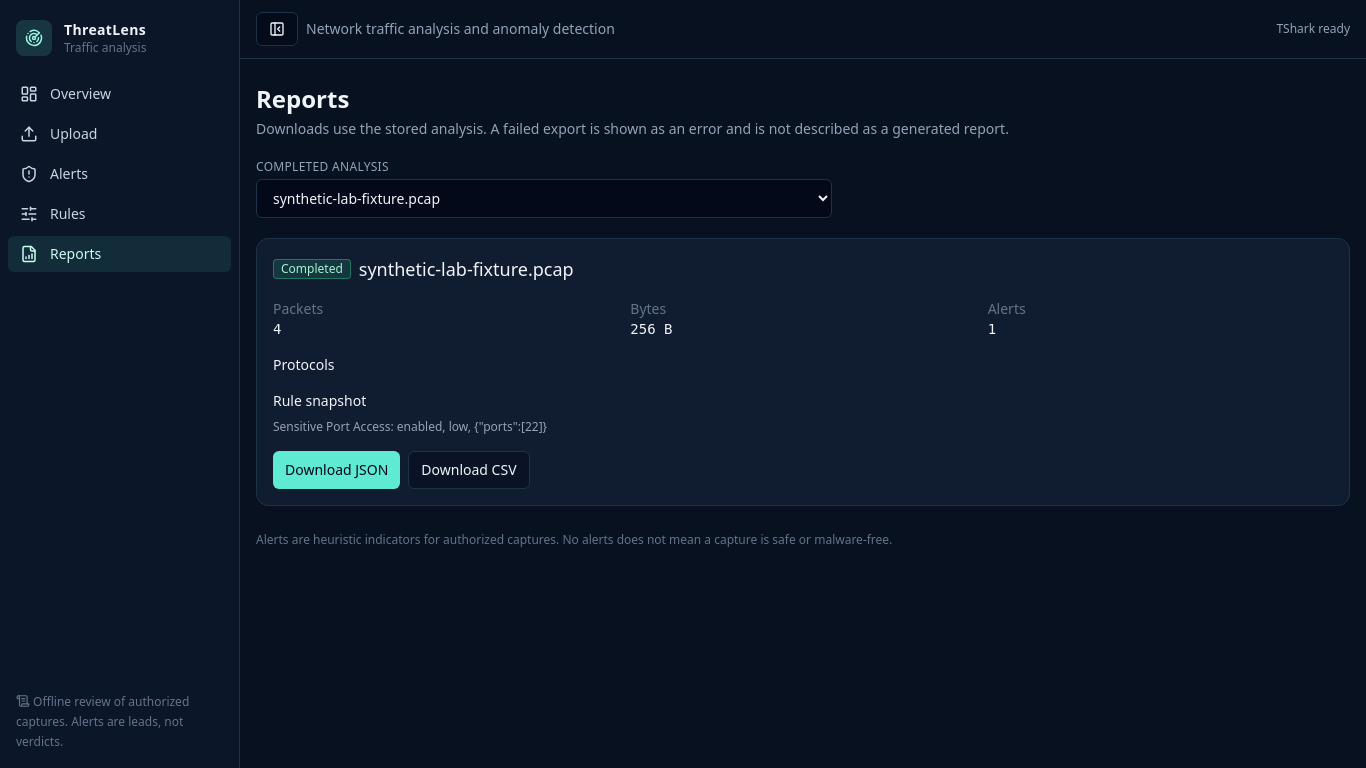
Scenario: reports › downloads both formats using the API filename and reports a failed export
This screenshot has width=1366, height=768.
Click the button "Download JSON" at (337, 470), box [273,451,400,489]
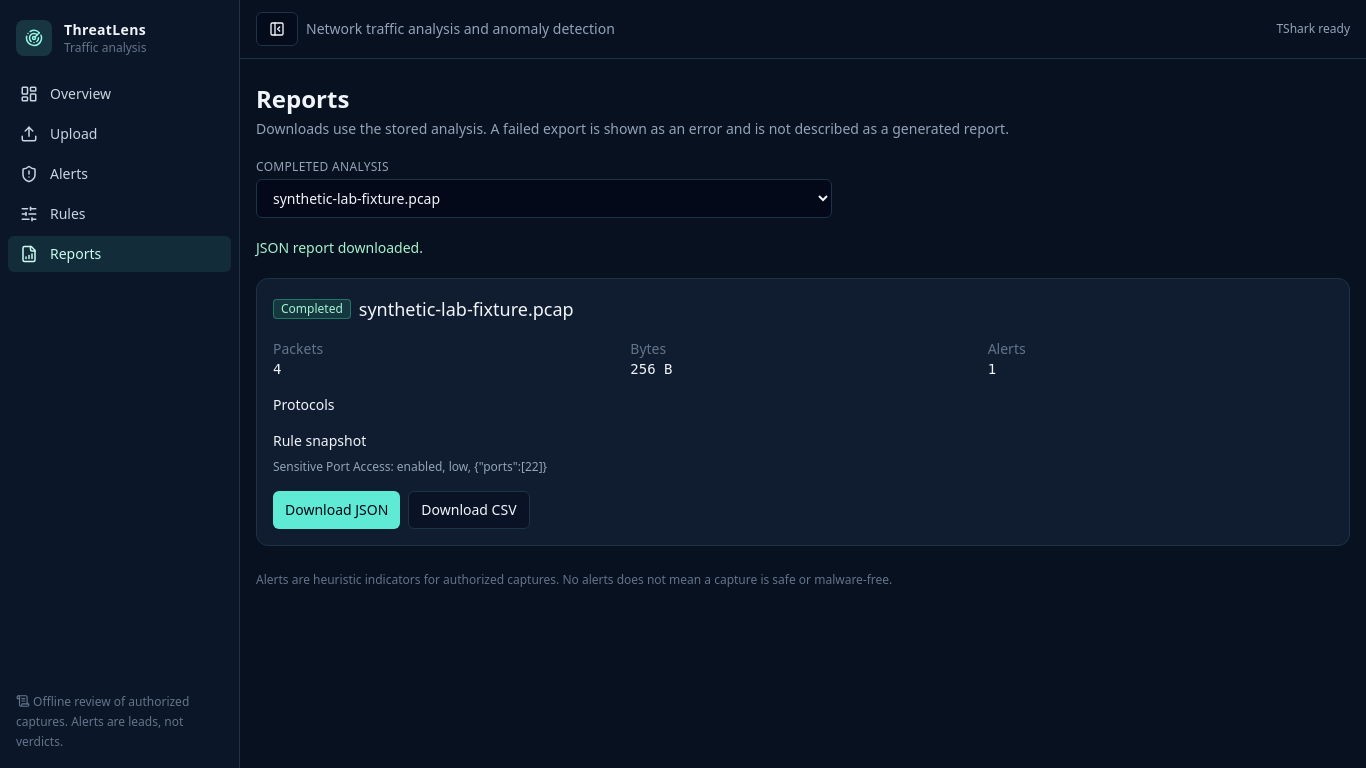
Expected: the text "JSON report downloaded." is shown, [256,238,423,257]
Click the button "Download CSV" at (469, 510), box [408,491,530,529]
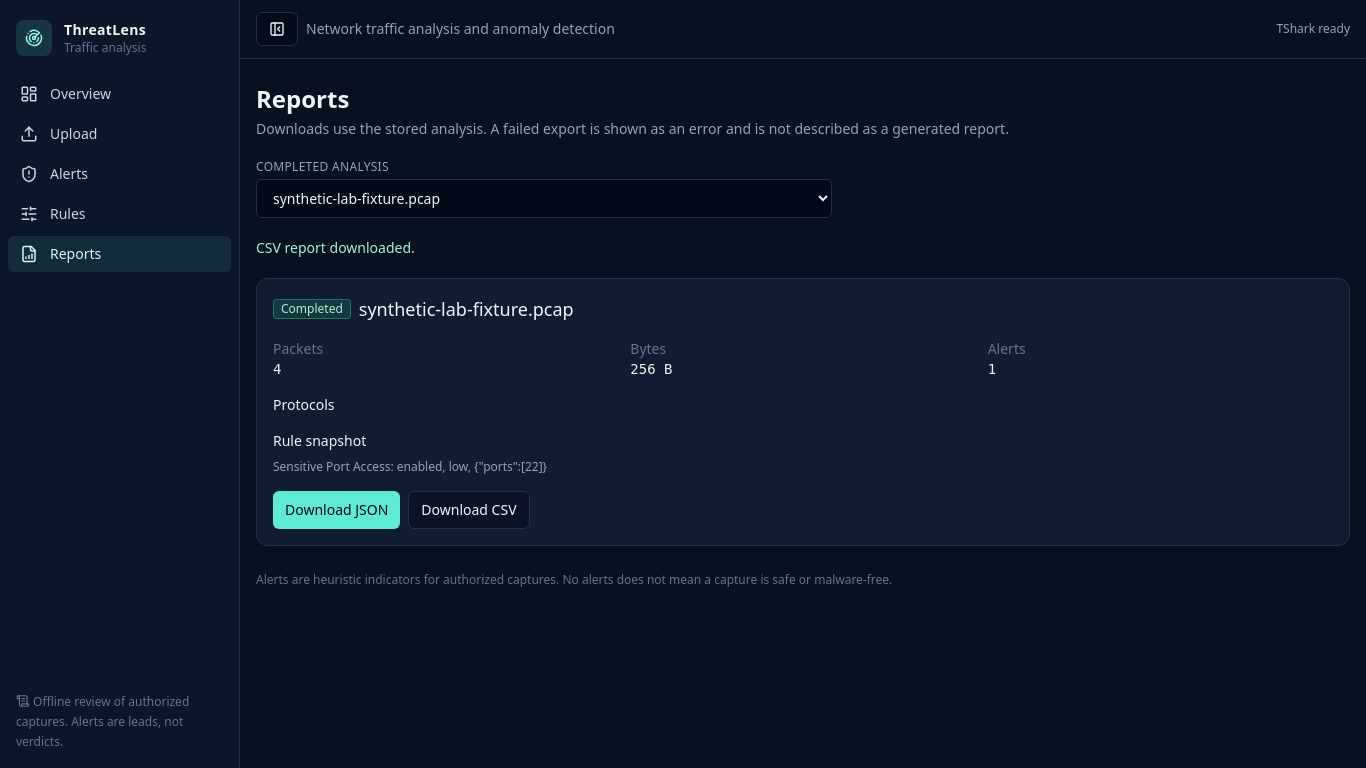
Expected: the text "CSV report downloaded." is shown, [256,238,415,257]
Click the button "Download CSV" at (469, 510), box [408,491,530,529]
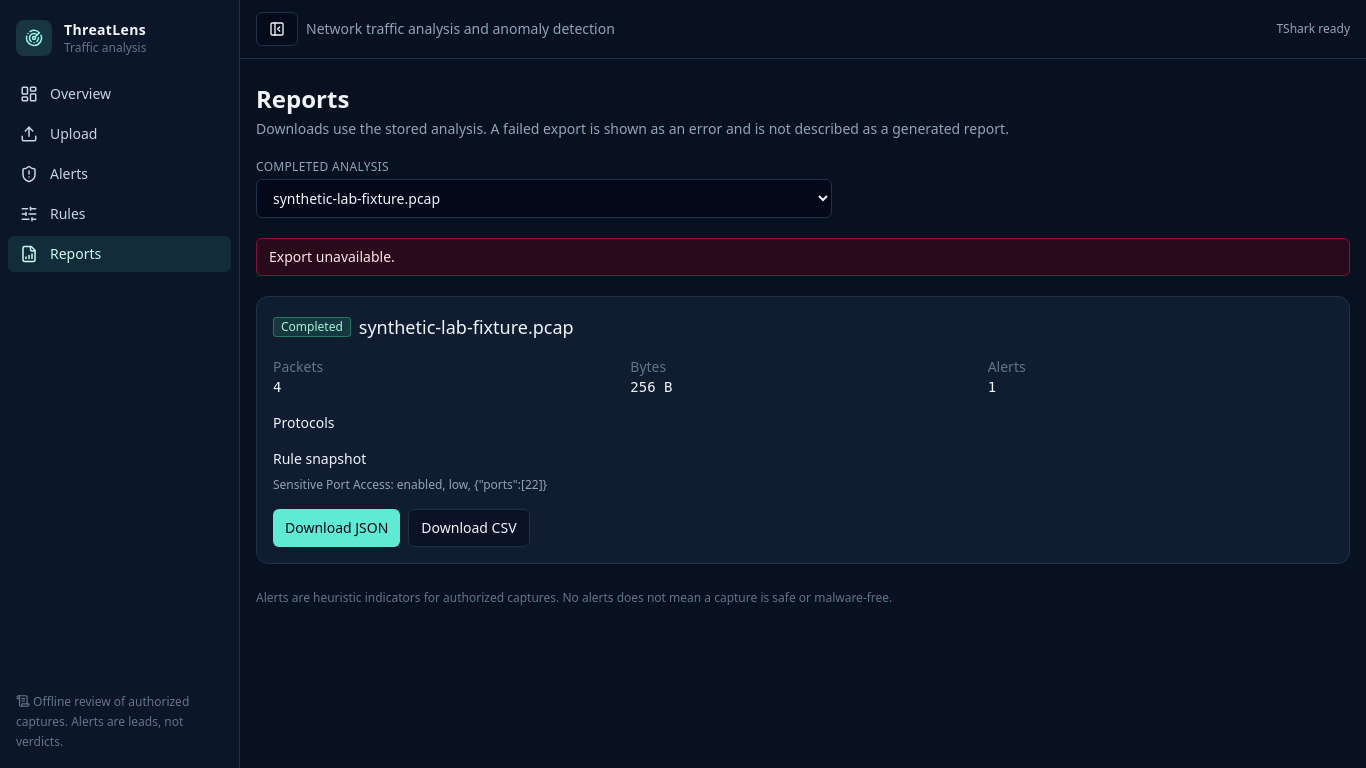
Expected: the message reads "Export unavailable.", [269,247,395,266]
Expected: the text "CSV report downloaded." is gone
